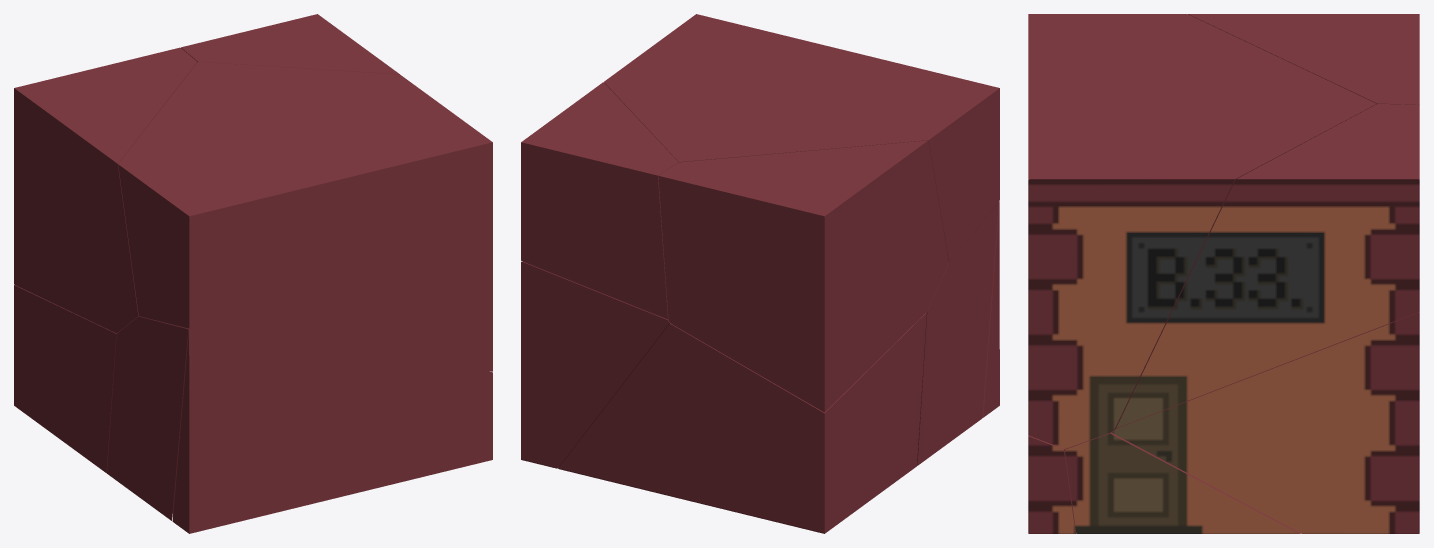
Rendered from BrickBuildingRed_2_128x128_Ground01_break.fbx.
3 views of the same model, side by side, from view 1: azimuth 30°, elevation 25°; view 2: azimuth 150°, elevation 25°; view 3: azimuth 270°, elevation 25° (orthographic). The views are drawn at different scales.
Visible parts, largest first — view 1: Ground01Break04, Ground01Break02, Ground01Break06, Ground01Break07, Ground01Break01, Ground01Break05; view 2: Ground01Break06, Ground01Break07, Ground01Break04, Ground01Break05, Ground01Break03, Ground01Break01, Ground01Break02; view 3: Ground01Break04, Ground01Break05, Ground01Break03, Ground01Break07, Ground01Break06, Ground01Break02.
Part boxes in pixels (x1,y1,x2,y2): Ground01Break04: (118,62,492,371); Ground01Break02: (172,329,492,533); Ground01Break06: (14,47,197,333); Ground01Break07: (14,285,117,473); Ground01Break01: (107,316,188,520); Ground01Break05: (181,14,399,74); Ground01Break06: (658,140,948,412); Ground01Break07: (558,312,926,533); Ground01Break04: (604,14,999,261); Ground01Break05: (521,82,678,319); Ground01Break03: (521,261,669,468); Ground01Break01: (917,203,998,465); Ground01Break02: (982,201,999,417); Ground01Break04: (1028,14,1376,448); Ground01Break05: (1116,104,1419,427); Ground01Break03: (1112,312,1419,533); Ground01Break07: (1065,427,1300,533); Ground01Break06: (1188,14,1419,104); Ground01Break02: (1028,435,1076,533).
Bounding box in the file's own units: 100 × 100 × 100.
Materials: 1 (1 with a texture image).
